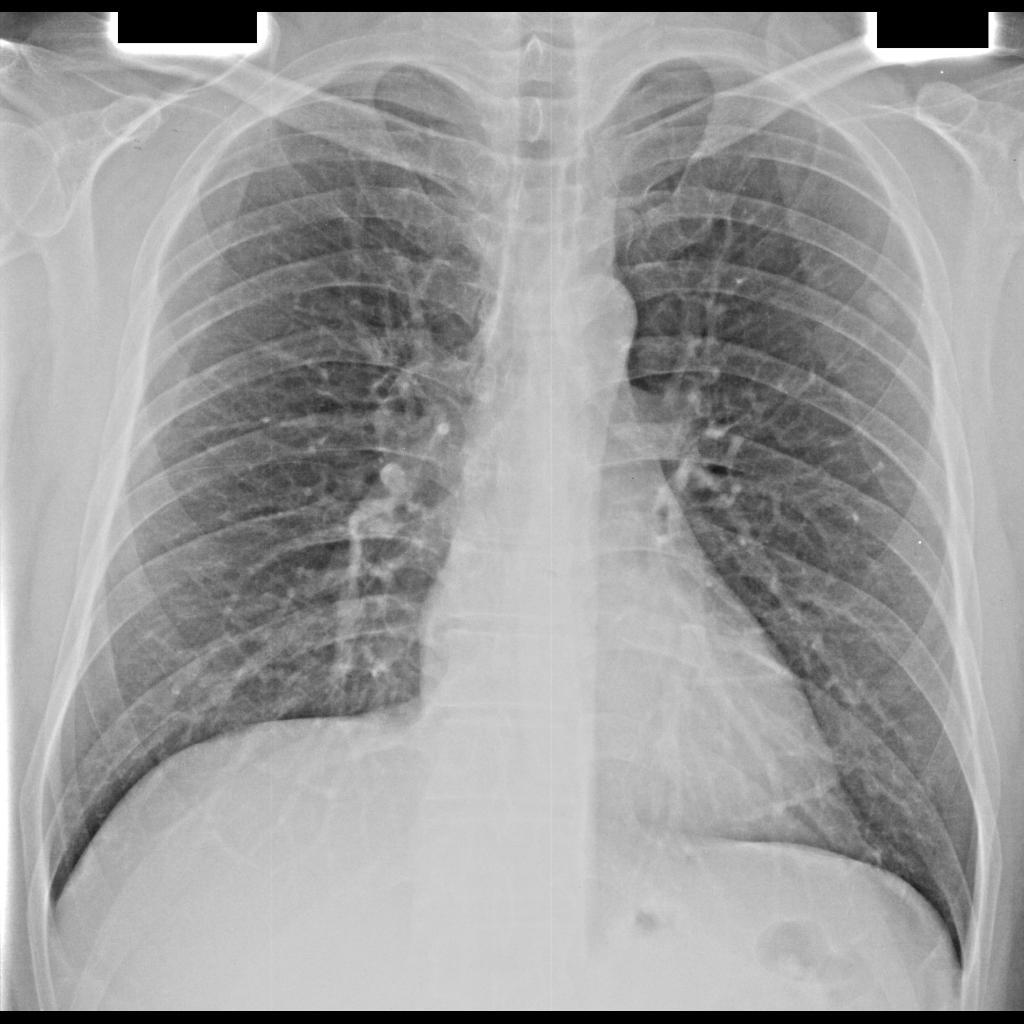Nodule: (865, 289, 901, 325)
